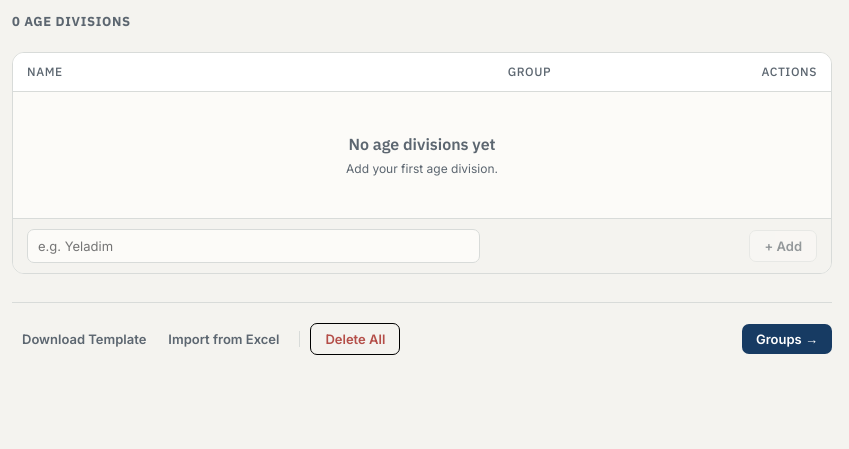
it: TiersScreen — add › cleans up a partial row if a later field write fails during add
Step 1. Type "Bogrim" into the field with placeholder "e.g. Yeladim" → x=253, y=246, box [27,228,480,262]
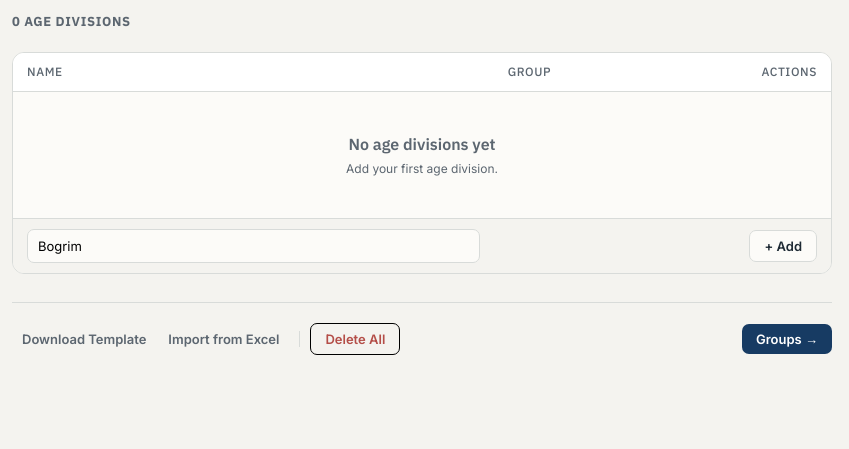
Step 2. Click the button "+ Add" → x=783, y=246, box [750,230,817,262]
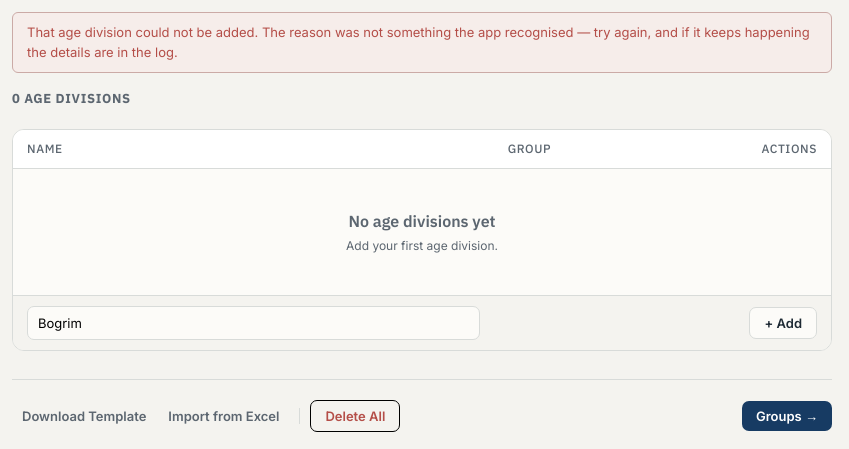
Result: the text "That age division could not be added" is shown at [27,24,810,60]
